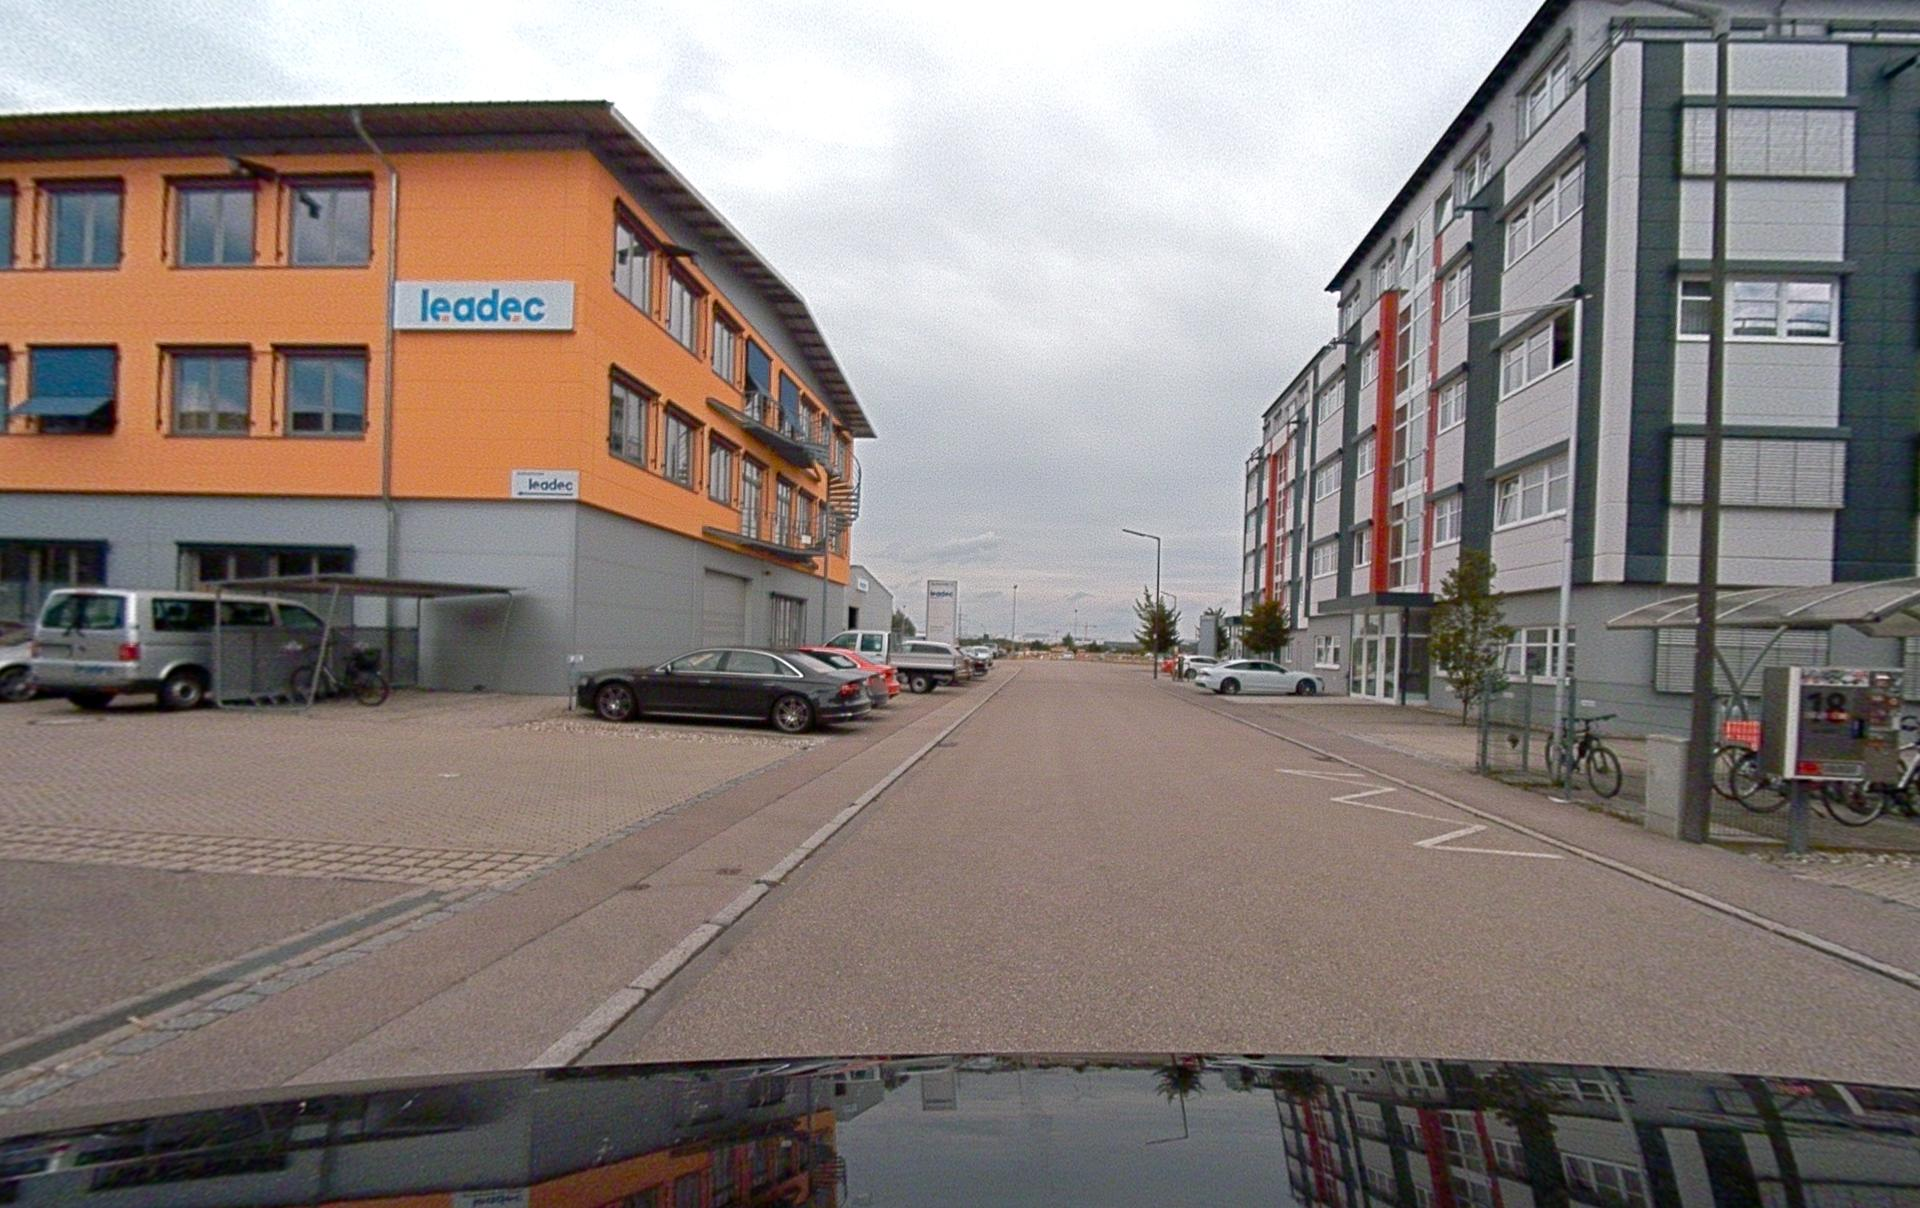car: (575, 646, 870, 732), (800, 646, 897, 707), (1194, 660, 1320, 694), (1176, 655, 1217, 678), (961, 646, 993, 674)
